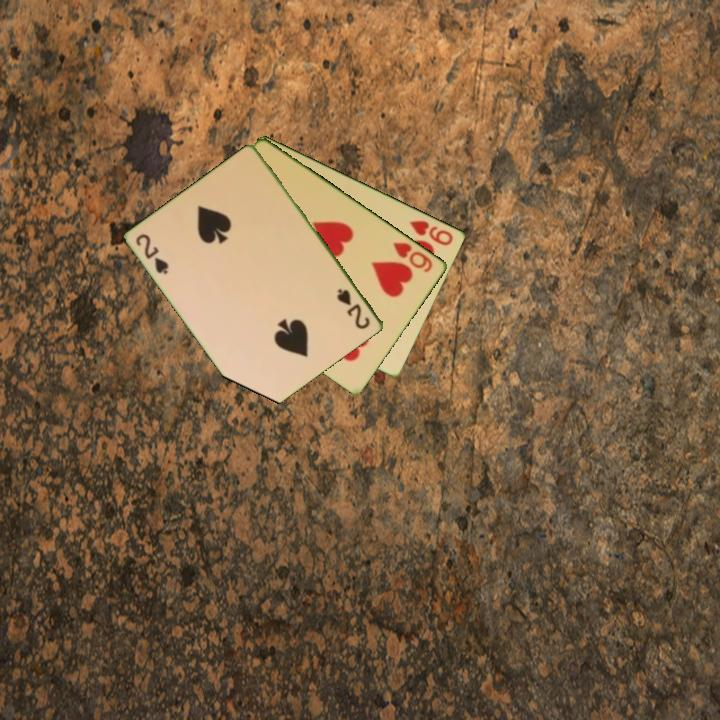2s: (132, 230, 172, 278), (334, 285, 373, 332)
6h: (390, 238, 436, 275)
9h: (406, 216, 456, 248)
